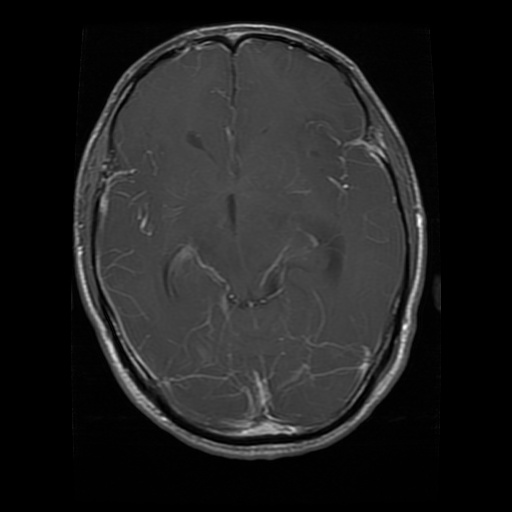glioma: (291, 210, 345, 277)
